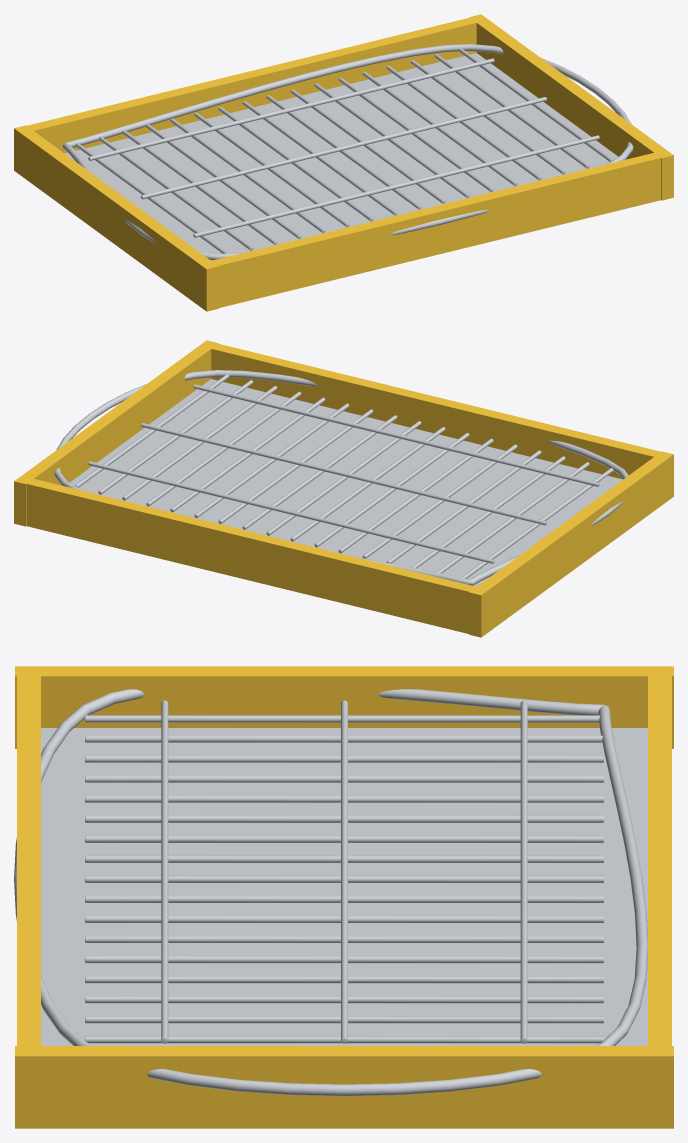
Rendered from baking_tray.glb.
The picture shows the model from 3 angles, top to bottom: view 1: azimuth 30°, elevation 25°; view 2: azimuth 150°, elevation 25°; view 3: azimuth 270°, elevation 25°; orthographic projection. The views are drawn at different scales.
Parts seen in each view (by area): view 1: Tray_Bottom, Tray_Short_Rim0.158, Tray_Short_Rim-0.158, Tray_Long_Rim-0.225, Tray_Long_Rim0.225, Wire_Rack_Frame, Rack_Crosswire0.09, Rack_Crosswire-0.09, Rack_Crosswire0, Cooling_Wire-0.04749999999999999, Cooling_Wire0.0, Cooling_Wire0.11875000000000002 (+14 smaller); view 2: Tray_Bottom, Tray_Short_Rim-0.158, Tray_Short_Rim0.158, Tray_Long_Rim-0.225, Tray_Long_Rim0.225, Wire_Rack_Frame, Rack_Crosswire-0.09, Rack_Crosswire0.09, Rack_Crosswire0, Cooling_Wire-0.04749999999999999, Cooling_Wire0.0, Cooling_Wire0.11875000000000002 (+14 smaller); view 3: Tray_Bottom, Tray_Long_Rim0.225, Tray_Long_Rim-0.225, Wire_Rack_Frame, Tray_Short_Rim0.158, Tray_Short_Rim-0.158, Cooling_Wire-0.14250000000000002, Cooling_Wire-0.11875, Cooling_Wire-0.095, Cooling_Wire-0.07125000000000001, Cooling_Wire0.16625, Cooling_Wire0.19 (+14 smaller).
Part boxes in pixels (x1,y1,x2,y2): Tray_Bottom: (65,53,618,260); Tray_Short_Rim0.158: (200,150,669,307); Tray_Short_Rim-0.158: (16,15,486,153); Tray_Long_Rim-0.225: (14,125,218,311); Tray_Long_Rim0.225: (469,14,673,200); Wire_Rack_Frame: (62,44,633,260); Rack_Crosswire0.09: (193,135,599,237); Rack_Crosswire-0.09: (88,58,494,160); Rack_Crosswire0: (141,97,546,199); Cooling_Wire-0.04749999999999999: (218,106,373,221); Cooling_Wire0.0: (266,95,421,209); Cooling_Wire0.11875000000000002: (386,65,541,180); Tray_Bottom: (69,379,622,586); Tray_Short_Rim-0.158: (17,476,486,633); Tray_Short_Rim0.158: (201,341,671,479); Tray_Long_Rim-0.225: (469,451,673,637); Tray_Long_Rim0.225: (14,340,218,526); Wire_Rack_Frame: (54,370,628,585); Rack_Crosswire-0.09: (88,461,494,563); Rack_Crosswire0.09: (193,384,599,486); Rack_Crosswire0: (141,423,546,525); Cooling_Wire-0.04749999999999999: (314,432,469,547); Cooling_Wire0.0: (266,421,421,535); Cooling_Wire0.11875000000000002: (146,391,301,506); Tray_Bottom: (41,728,647,1045); Tray_Long_Rim0.225: (15,1046,673,1128); Tray_Long_Rim-0.225: (15,666,673,748); Wire_Rack_Frame: (14,689,647,1096); Tray_Short_Rim0.158: (17,667,40,1055); Tray_Short_Rim-0.158: (648,667,671,1055); Cooling_Wire-0.14250000000000002: (85,755,603,762); Cooling_Wire-0.11875: (85,775,603,782); Cooling_Wire-0.095: (85,795,603,802); Cooling_Wire-0.07125000000000001: (85,815,603,822); Cooling_Wire0.16625: (85,1016,603,1023); Cooling_Wire0.19: (85,1036,603,1043).
Size of the model in its own units: 0.4856 by 0.0435 by 0.3305.
